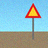sign: (25, 3, 41, 39)
